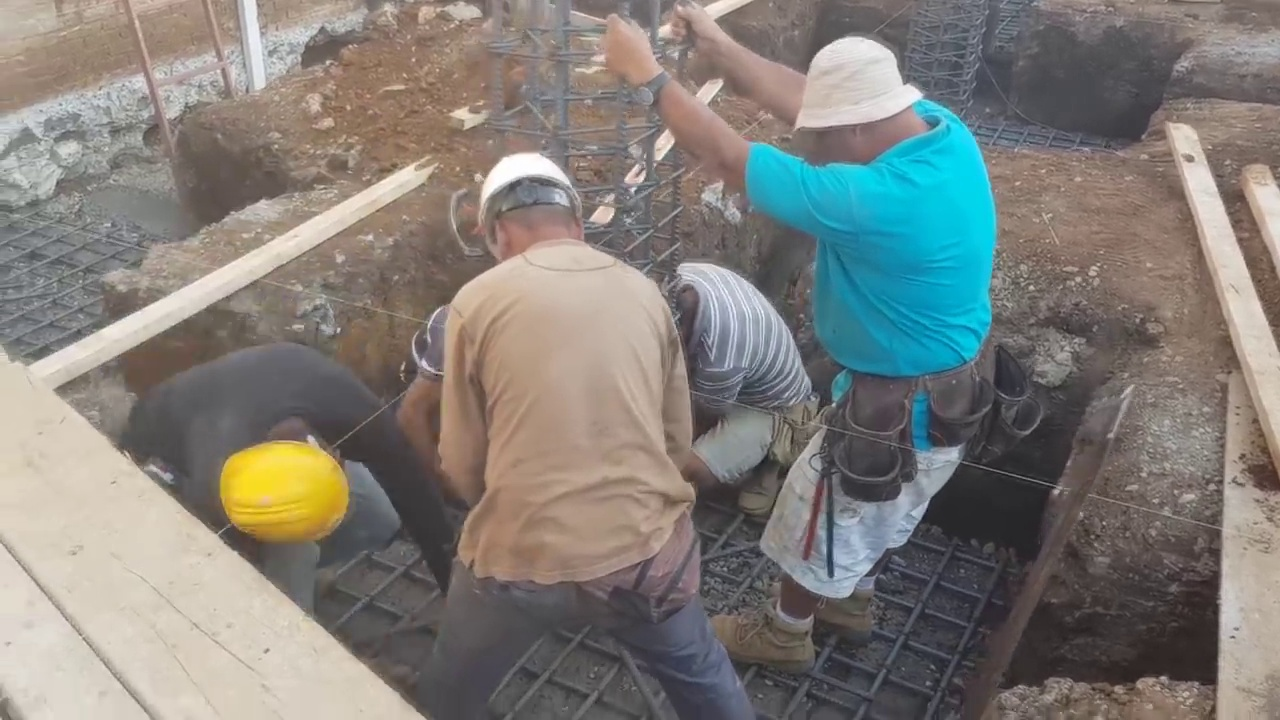helmet: (218, 440, 351, 544), (476, 151, 585, 242)
helmet-off: (787, 33, 937, 170)
helmet-on: (219, 408, 353, 550), (475, 147, 589, 265)
person: (607, 2, 982, 669), (432, 152, 754, 720), (122, 342, 398, 614), (662, 260, 811, 497)
